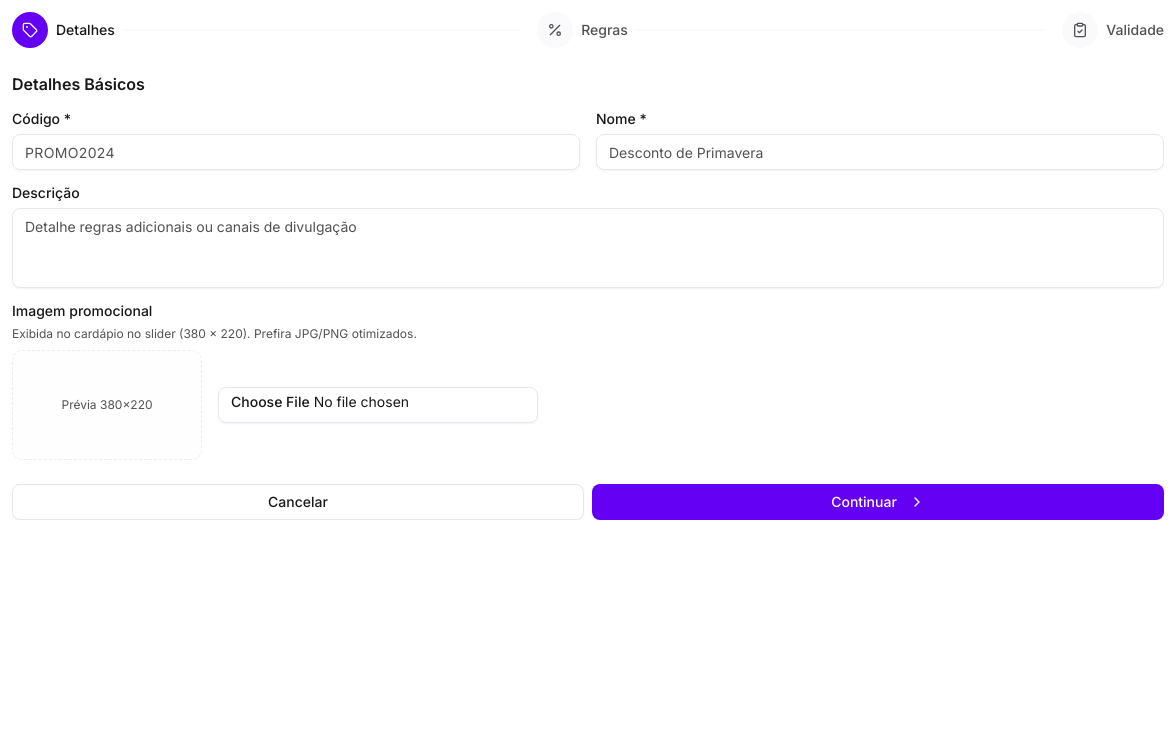
Test: CouponForm › should block advance when backend returns validation error
Type "DUPLICADO" into the field labelled "Código *". click: (296, 152)
box: [12,134,580,170]
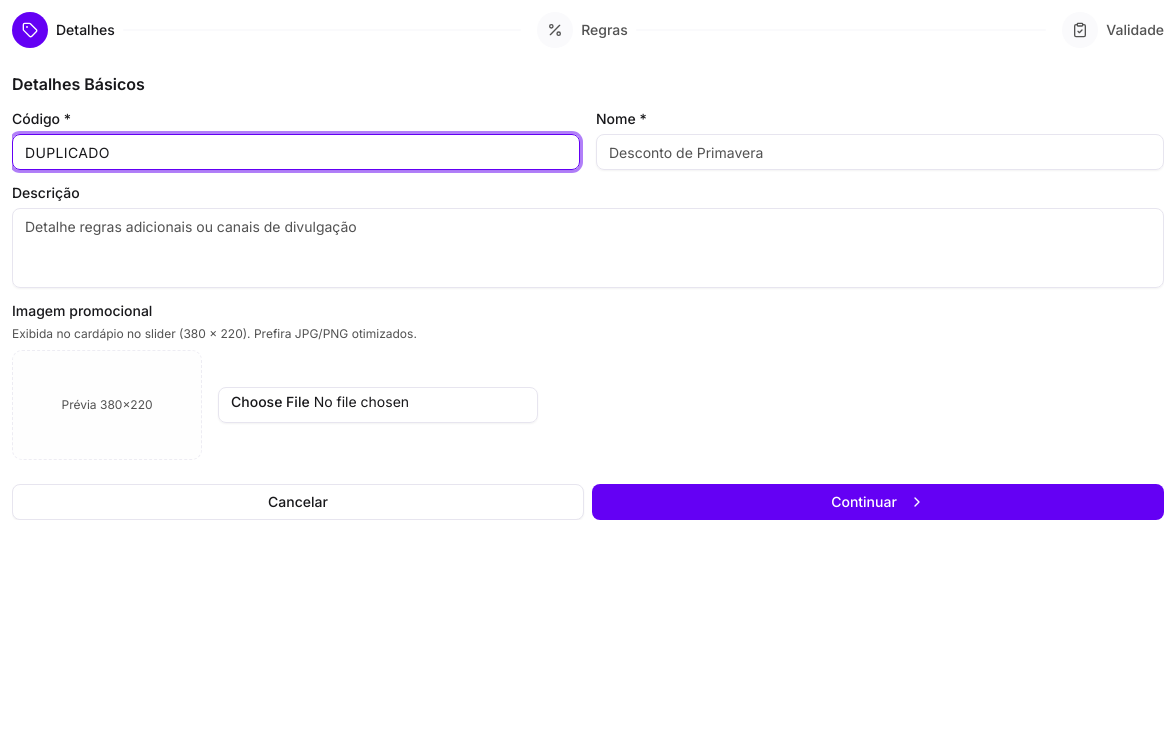
Type "Cupom" into the field labelled "Nome *". click: (880, 152)
box: [596,134,1164,170]
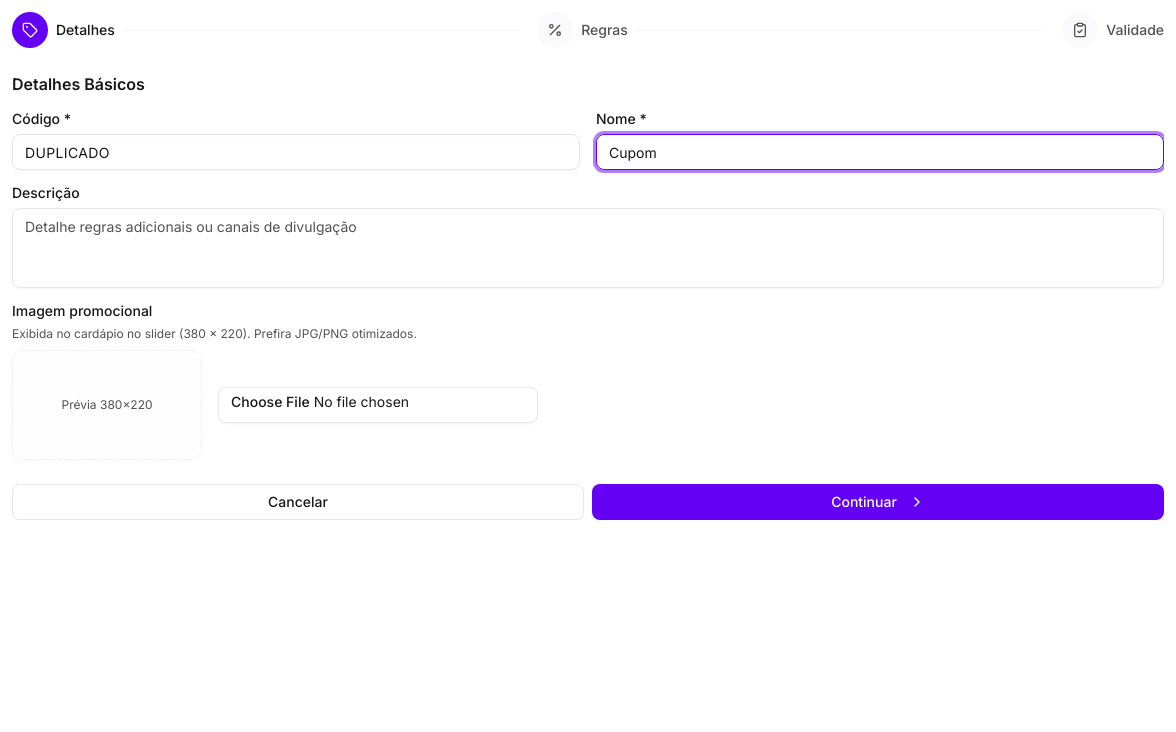
Click the button "Continuar". click: (878, 502)
box: [592,484,1164,520]
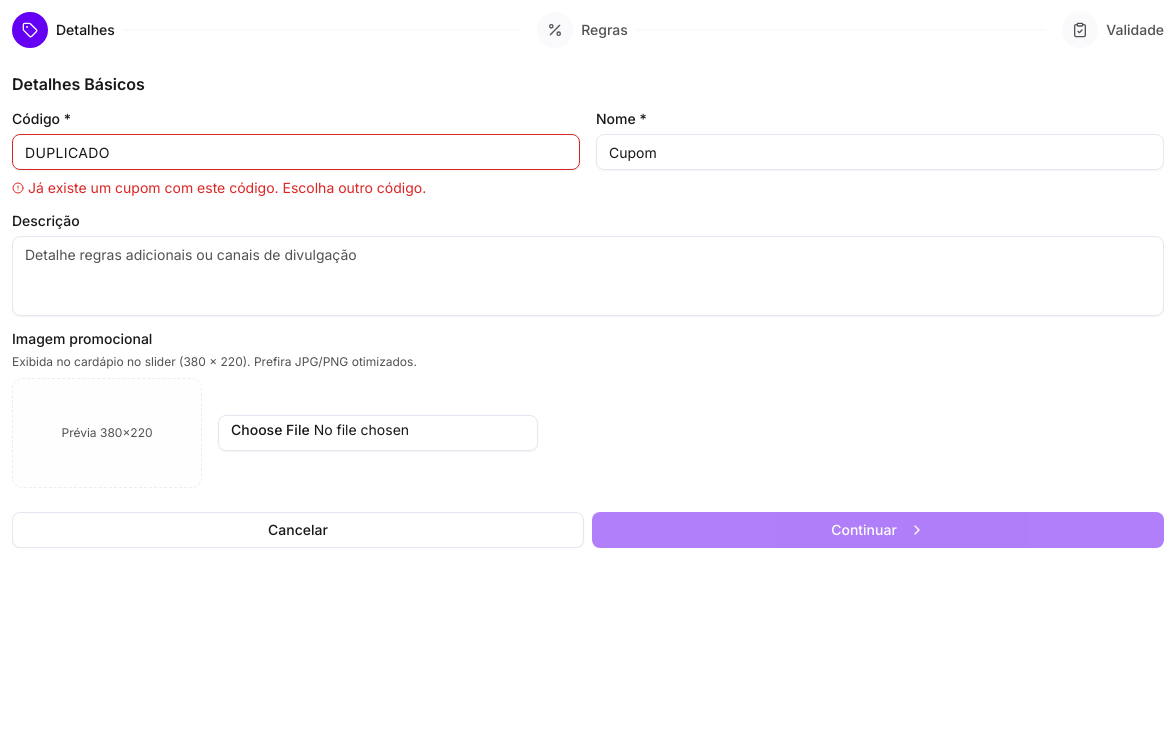
Now the text "Já existe um cupom com este código. Escolha outro código." is shown, box [12,179,426,196]
Now the button "Continuar" is disabled, box [592,512,1164,548]
